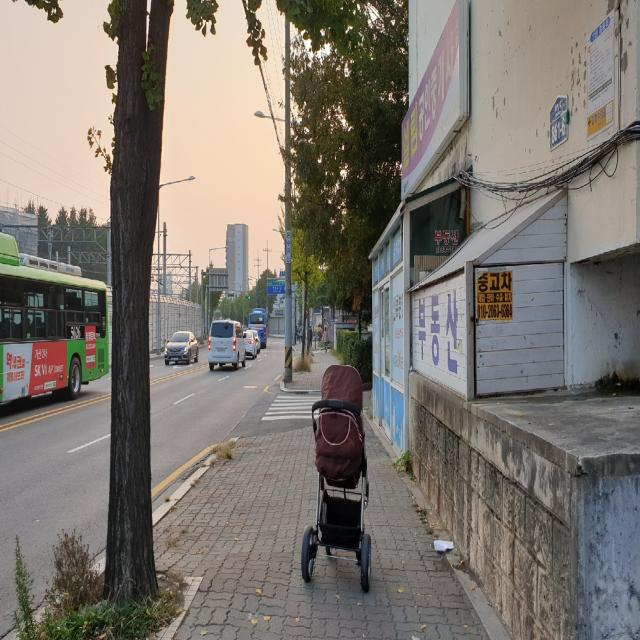횡단보도: (261, 395, 322, 421)
